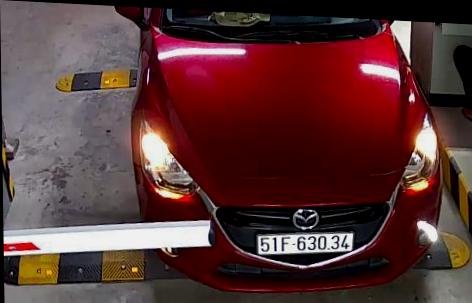License_Plate: (253, 225, 359, 262)
